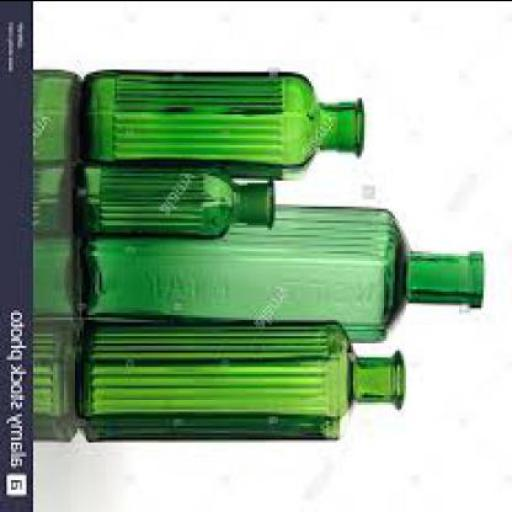glass: (82, 206, 488, 342), (77, 320, 408, 444), (84, 70, 366, 182), (78, 161, 278, 243)
